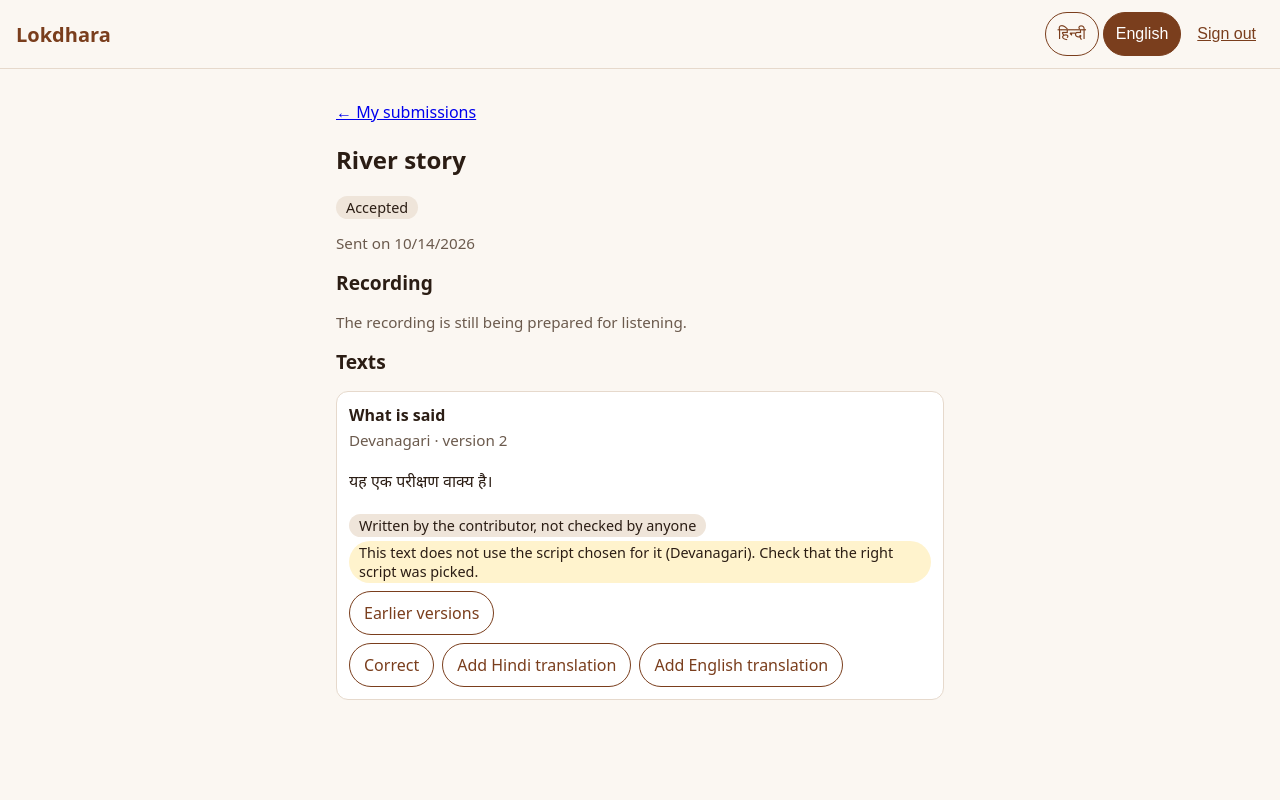
one submission › adds a missing translation and warns about a script that does not match
expect the text "does not use the script chosen for it (Devanagari)" is shown: met, box [359,543,893,581]
Click the button "Add English translation" at (741, 665), box [639,643,843,687]
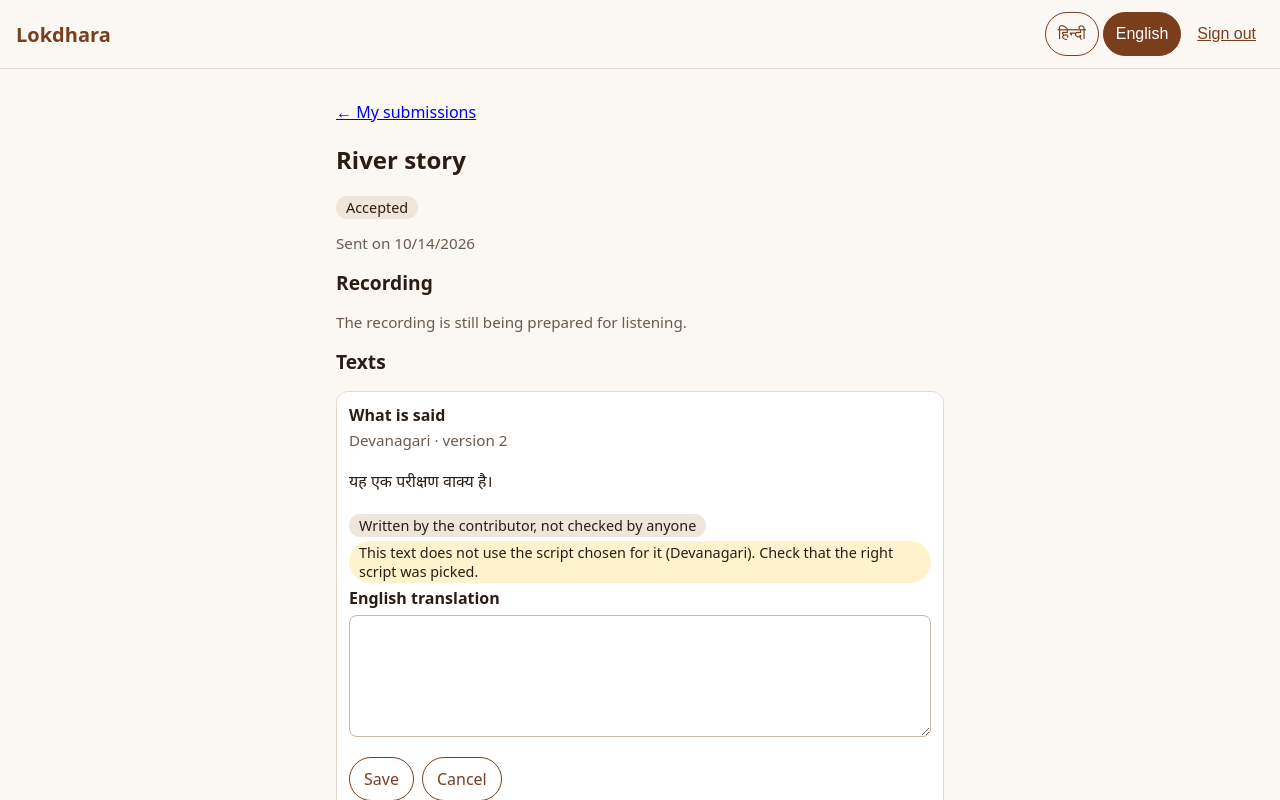
Type "A test sentence." into the text box labelled "English translation" at (640, 676), box [349,615,931,737]
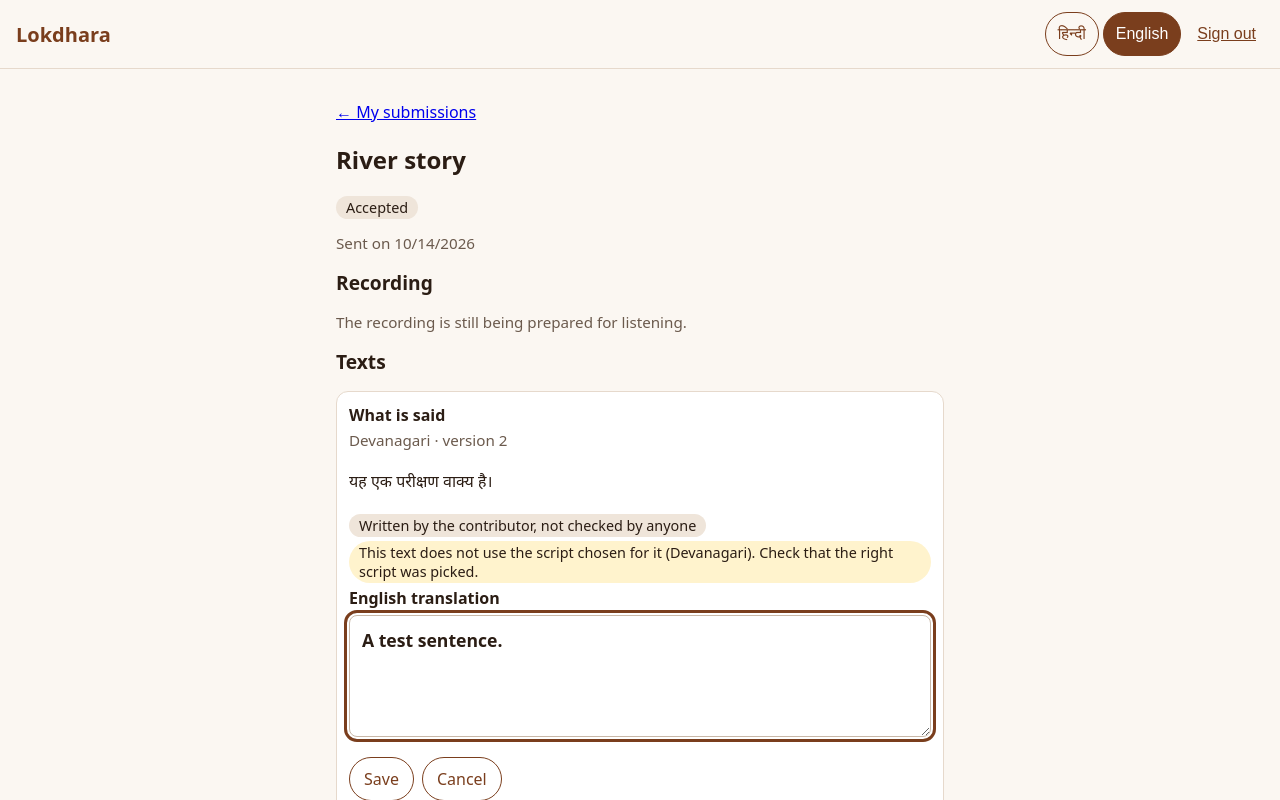
Click the button "Save" at (381, 779), box [349,757,414,799]
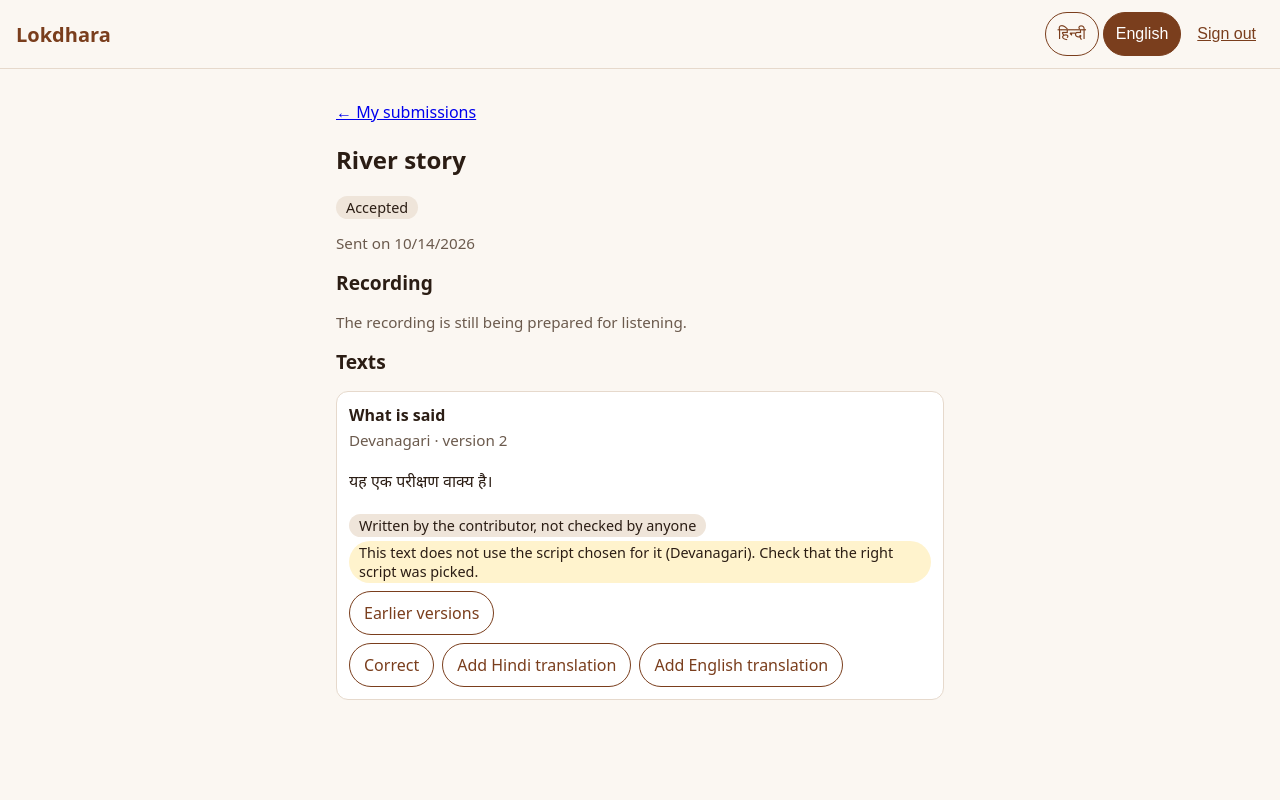
expect the button "Add English translation" is shown: met, box [639,643,843,687]
